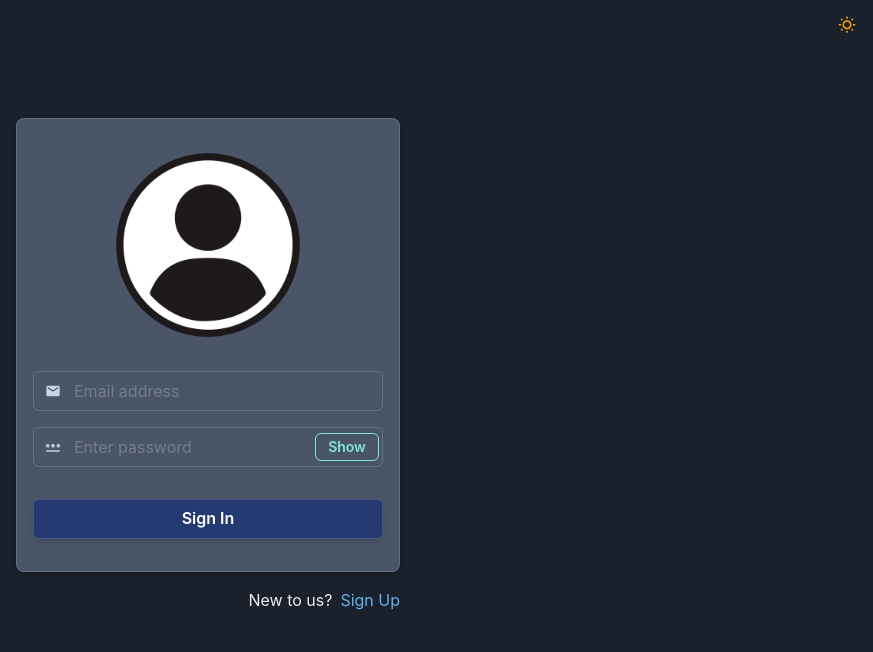
Test case: SignIn › Should test all fields validation
This screenshot has width=873, height=652.
Click the submit button. click: (208,519)
box: [33,499,383,539]
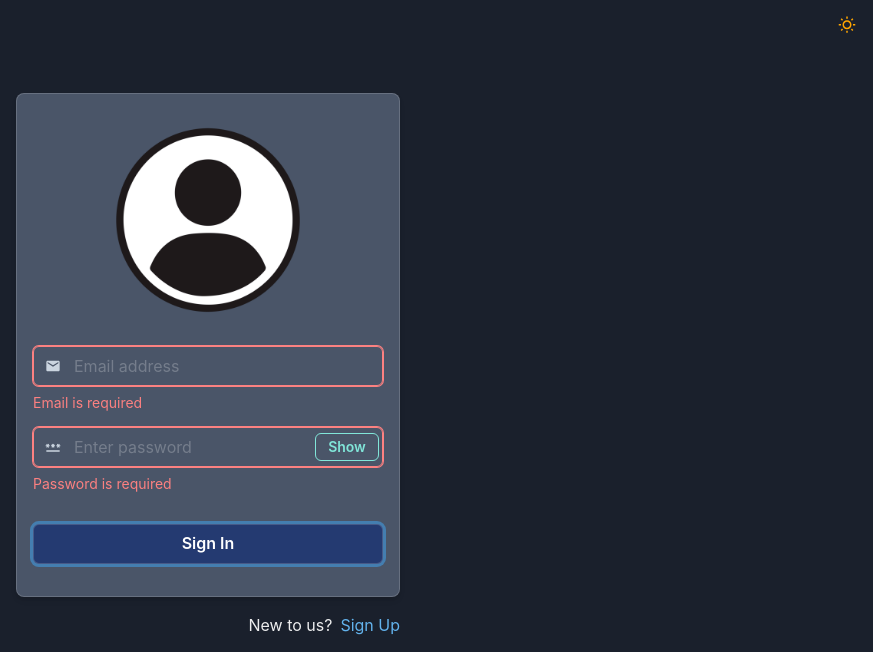
// Validate invalid email
Type "invalid-email" into the field with placeholder "Email address". click: (208,366)
box: [33,346,383,386]
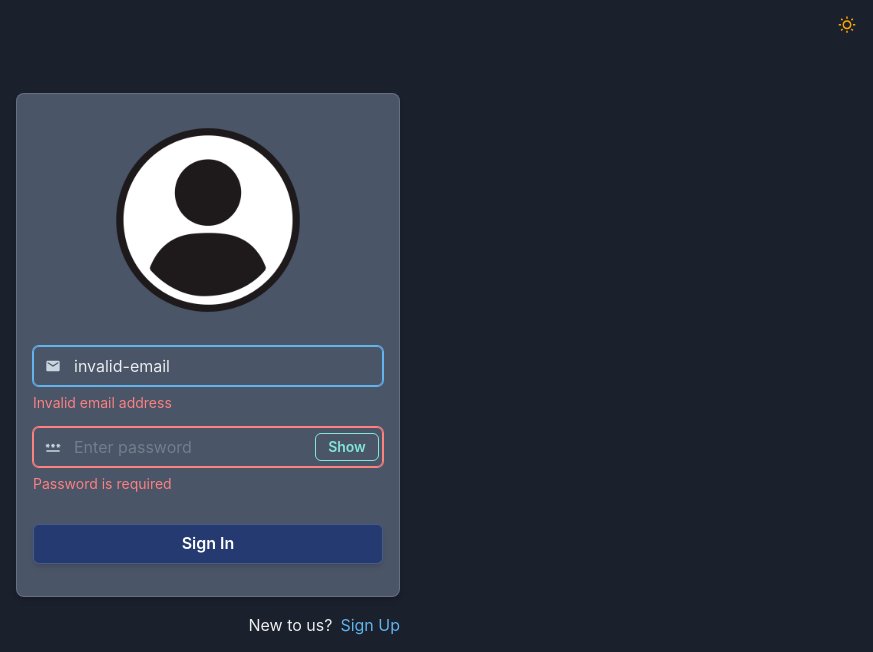
Now the text "Invalid email address" is shown, box [33,394,172,411]
Clear the field with placeholder "Email address". click: (208,366)
box: [33,346,383,386]
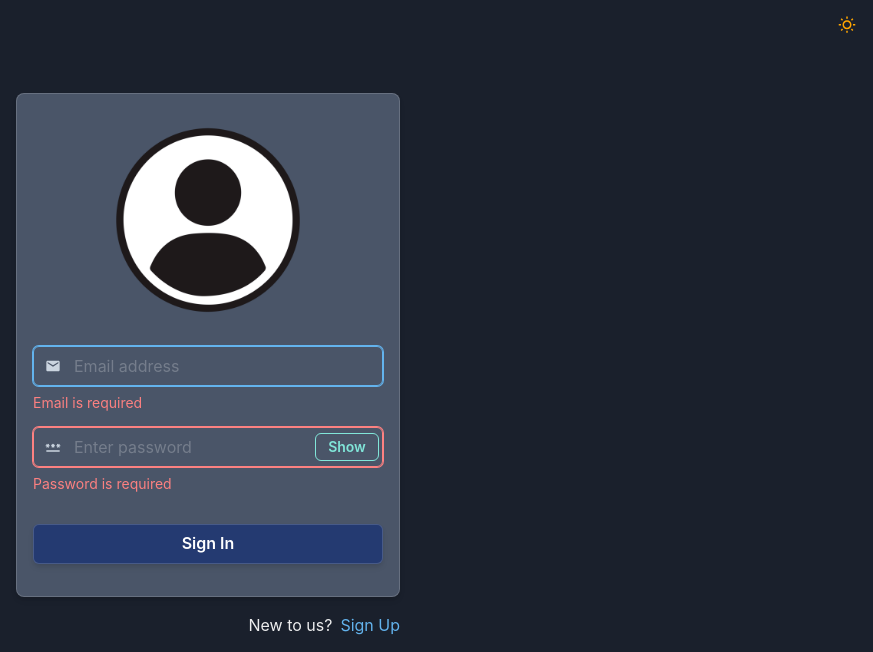
Now the text "Password is required" is shown, box [33,475,172,492]
Now the text "Email is required" is shown, box [33,394,142,411]
